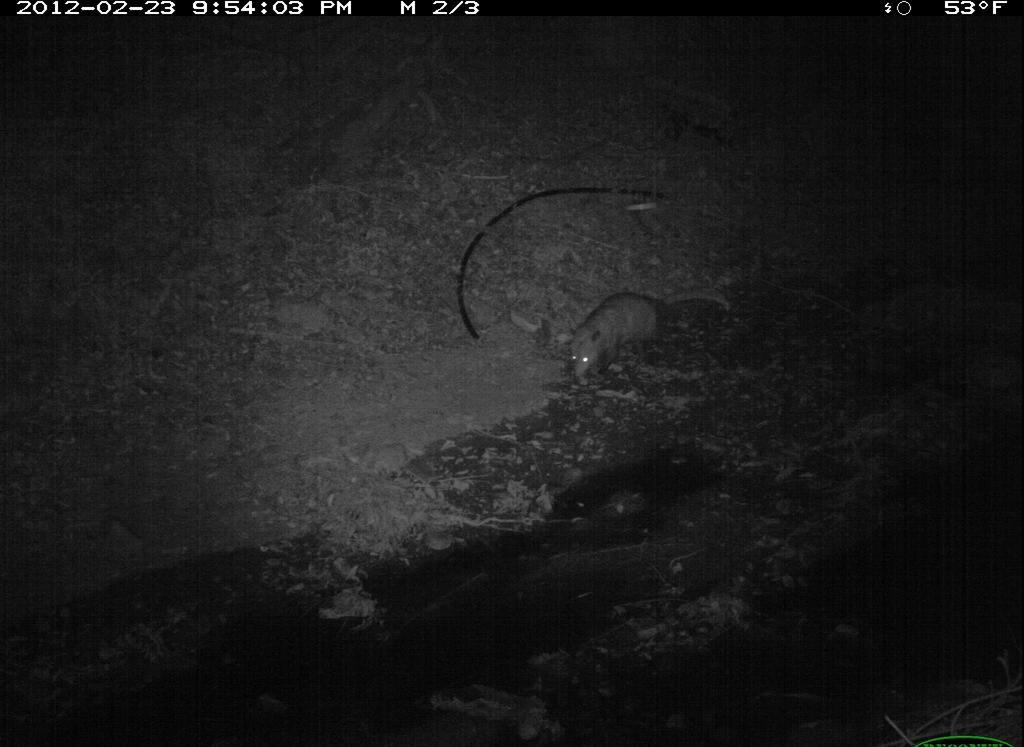opossum: (519, 267, 734, 397)
